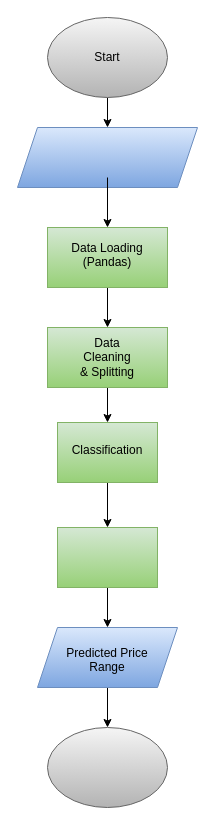
Some shapes in this 215 by 825 pixel diagram are drawn without their labels. Here are the shapes that lost their labels. From the top down, the box of each, then its label:
(16, 126, 198, 188): Mobile Price Dataset (CSV)
(56, 526, 158, 588): Evaluation
(46, 726, 168, 808): End
